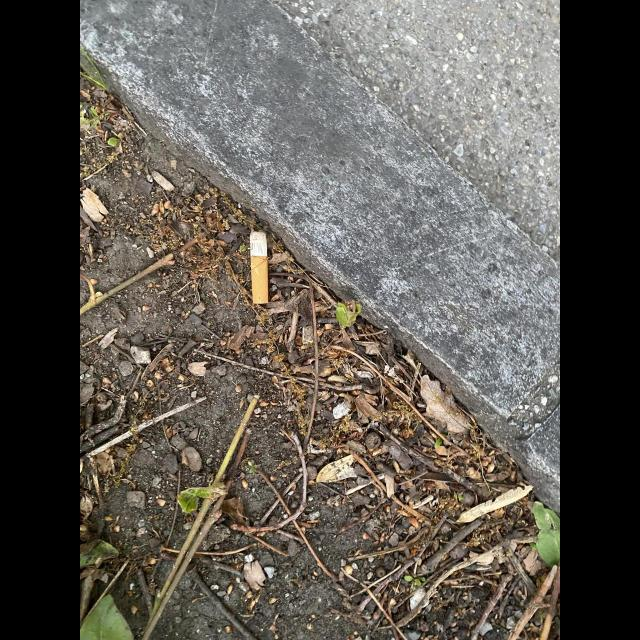cigarette: (250, 230, 268, 304)
